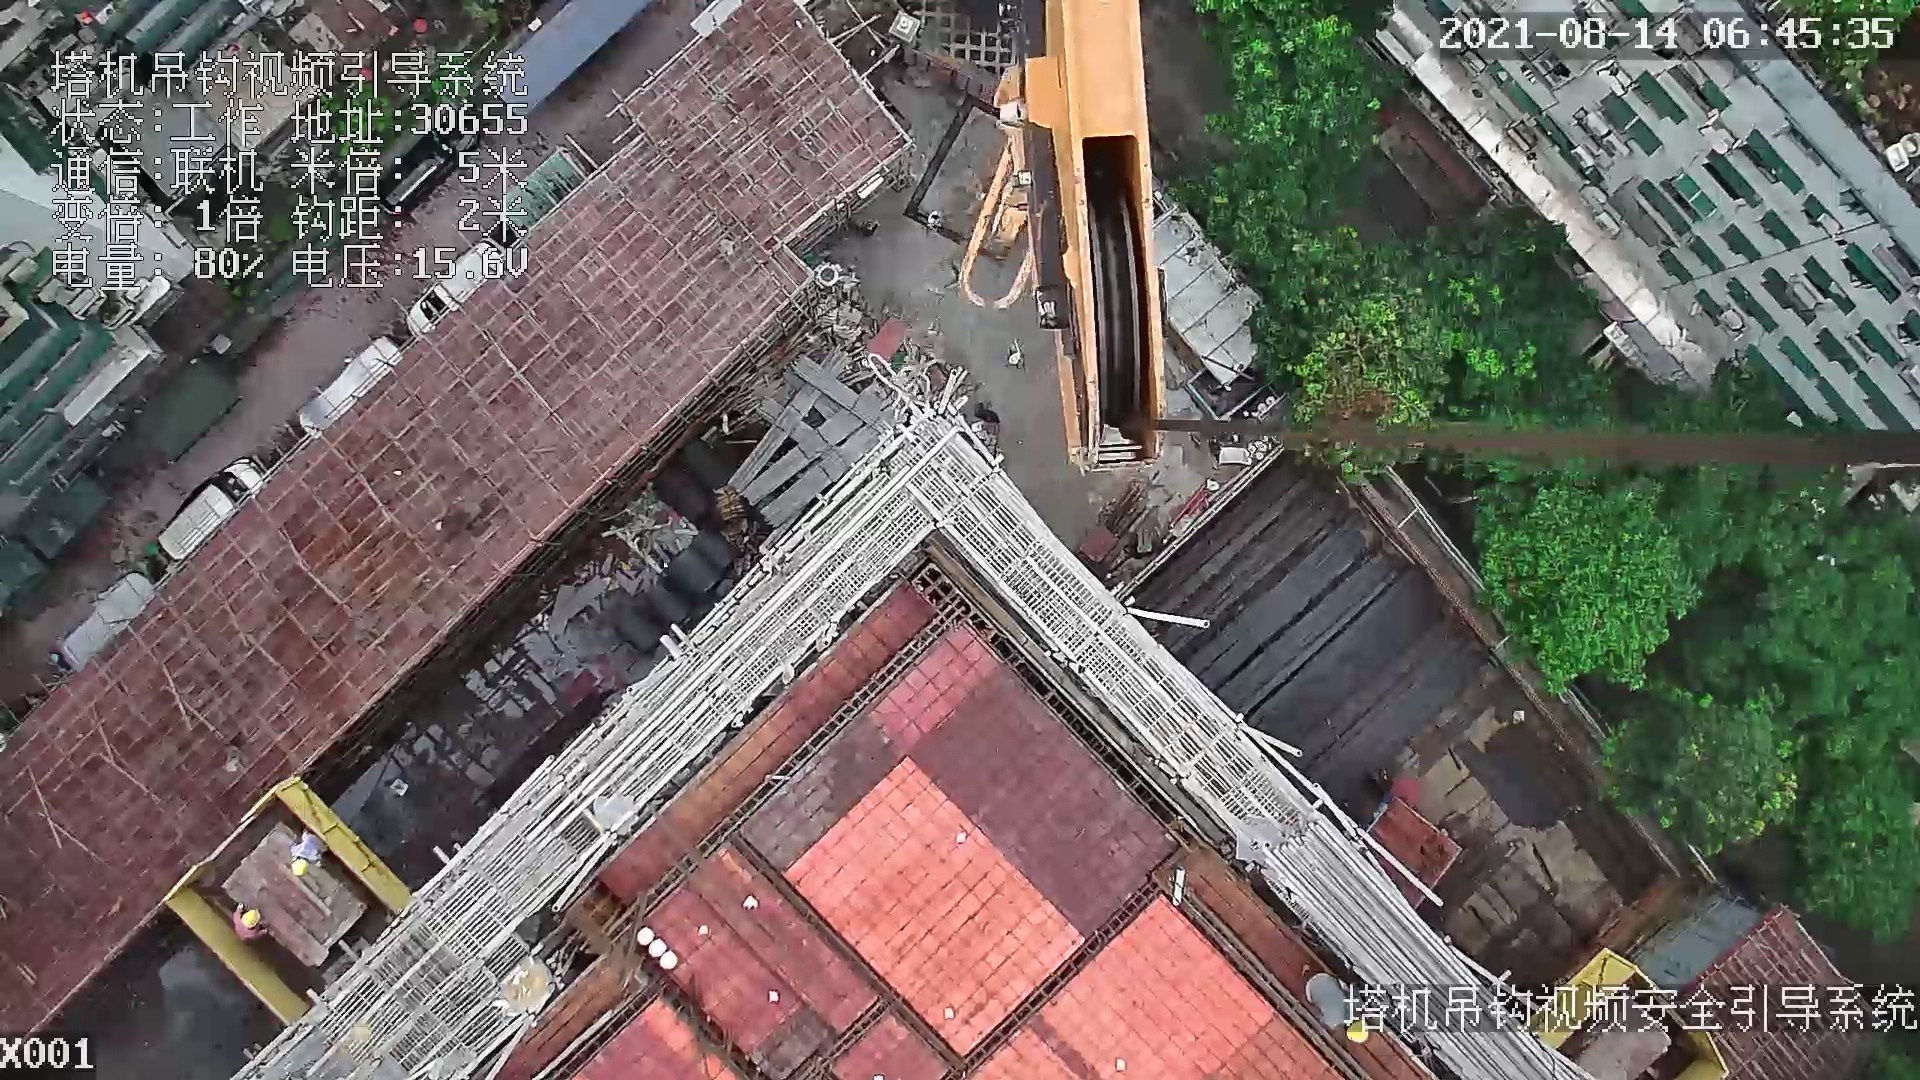helmet: (244, 905, 267, 928), (291, 860, 318, 879), (1348, 1017, 1366, 1042)
person: (1304, 960, 1378, 1045), (283, 830, 326, 877), (233, 904, 281, 945)
